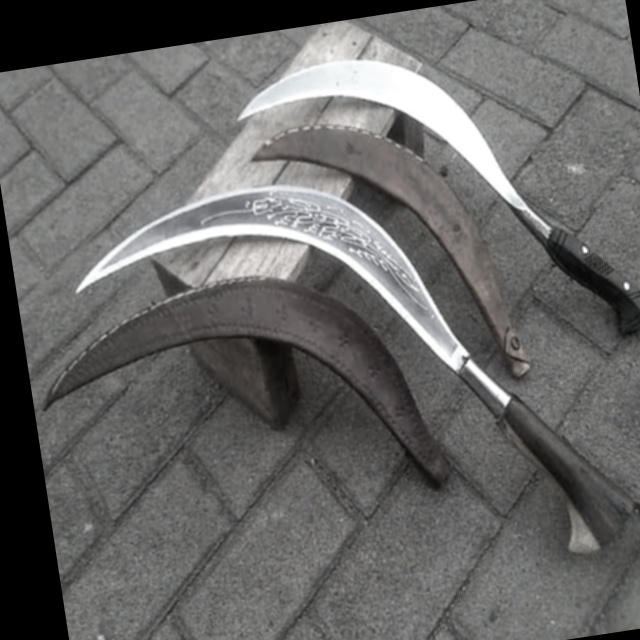Sharp-Object: (59, 129, 640, 624), (223, 2, 640, 384)
